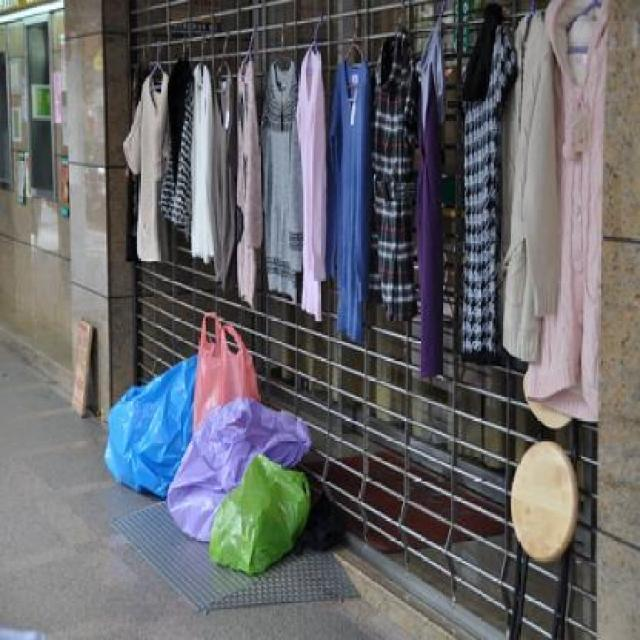plastic bag: (101, 311, 314, 574), (106, 350, 194, 496), (211, 451, 311, 571)
